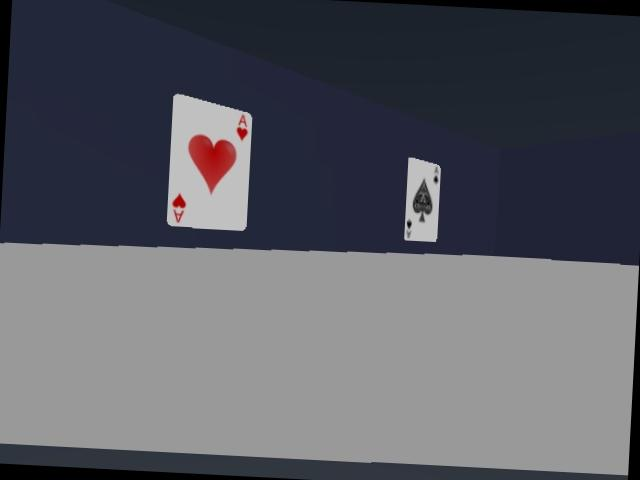heart: (167, 94, 251, 230)
spade: (404, 158, 440, 241)
